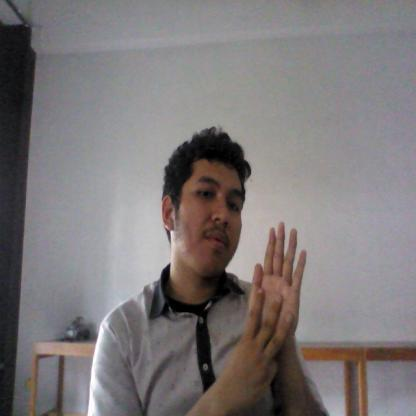M: (225, 221, 323, 402)
